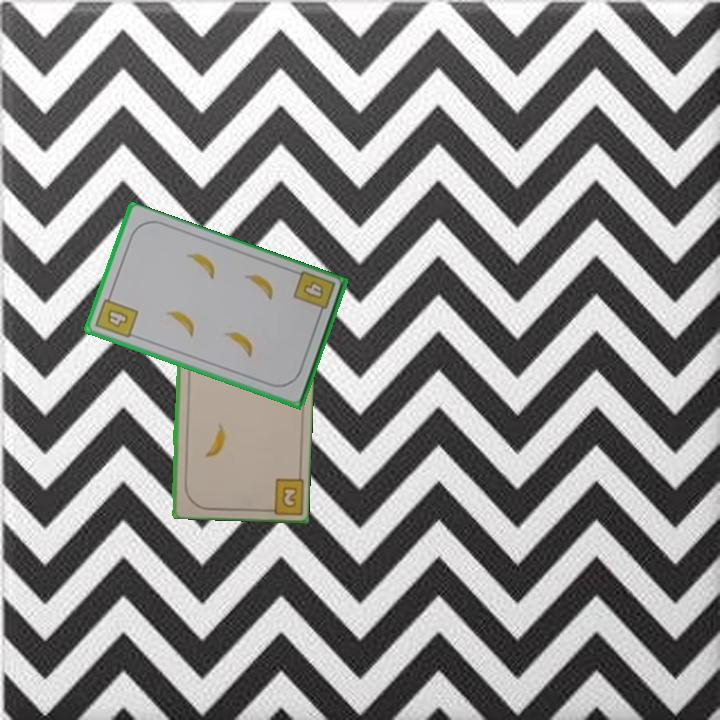2b: (259, 473, 305, 515)
4b: (290, 268, 338, 321), (92, 290, 141, 341)
